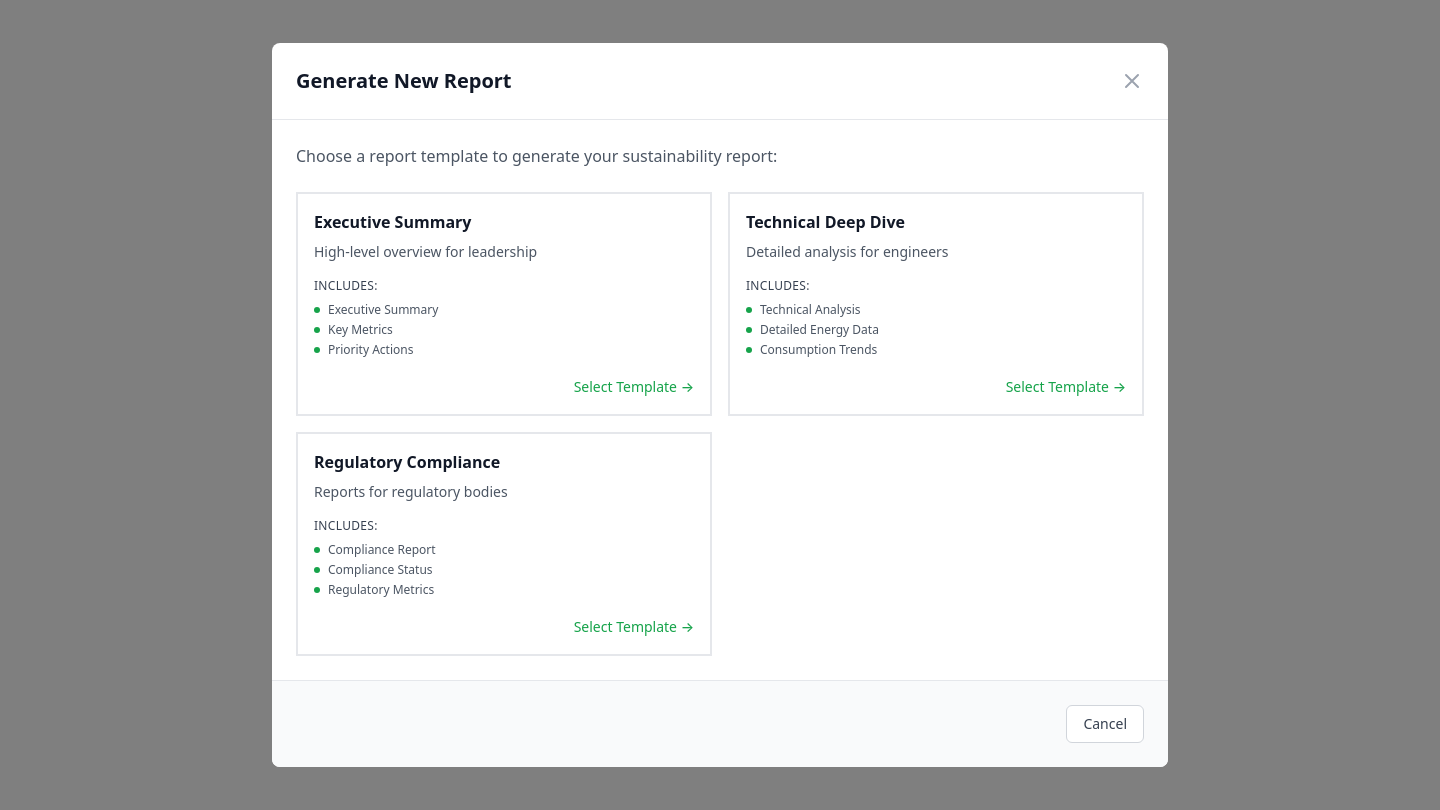
ReportGenerationModal › Template Cards Interaction › should select regulatory compliance template
# Find and click the regulatory compliance template
Click the text "Regulatory Compliance" at (504, 544), box [296,432,712,656]
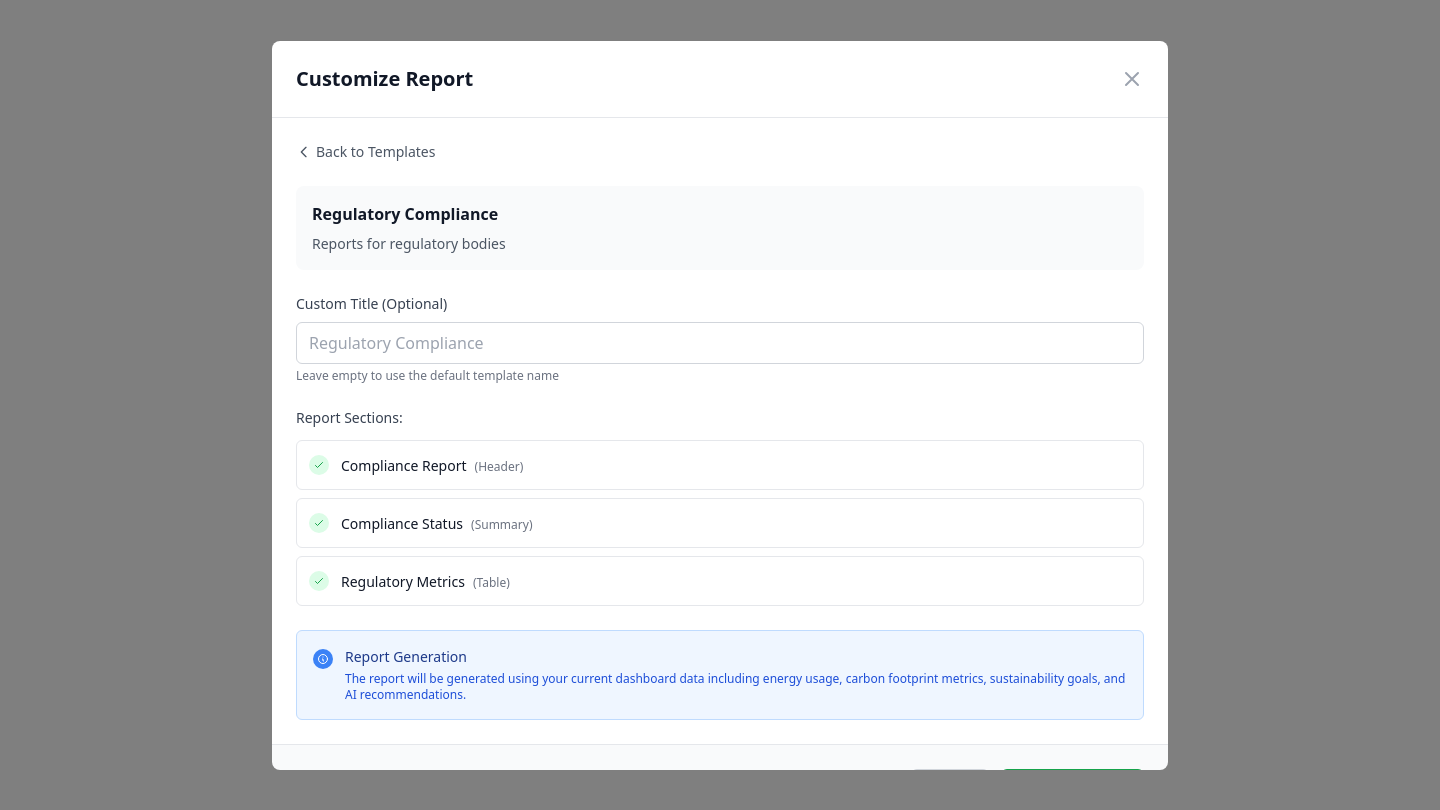
Expected: the heading "Regulatory Compliance" is shown, [312,202,498,224]
Result: the heading "Customize Report" is shown at [296,64,473,92]
